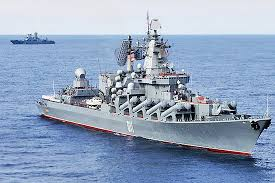tau_muctieu: (41, 44, 263, 154), (11, 28, 56, 46)
